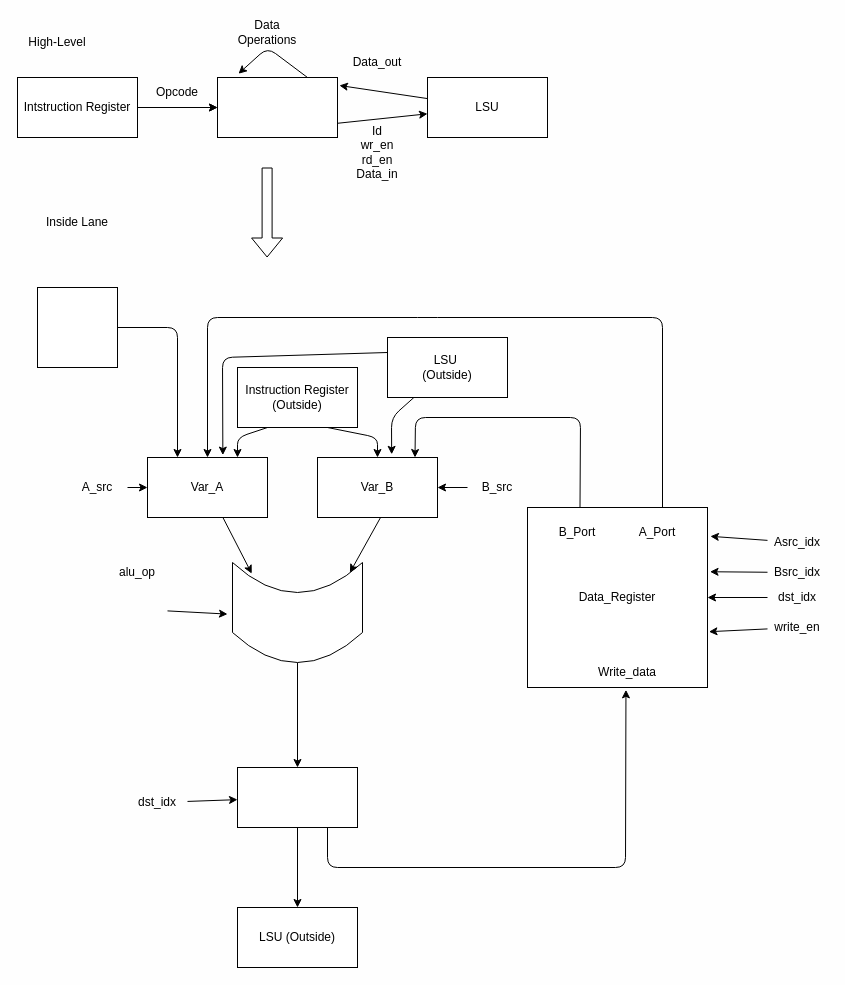
This 845x985 diagram has some shape labels left out. Here are the shapes that lost their labels. From the top down, the centre of each, then its label:
At pixel 277 107: "Lane (Id)".
At pixel 77 327: "Lane Register".
At pixel 297 612: "ALU".
At pixel 297 797: "Var_C".
